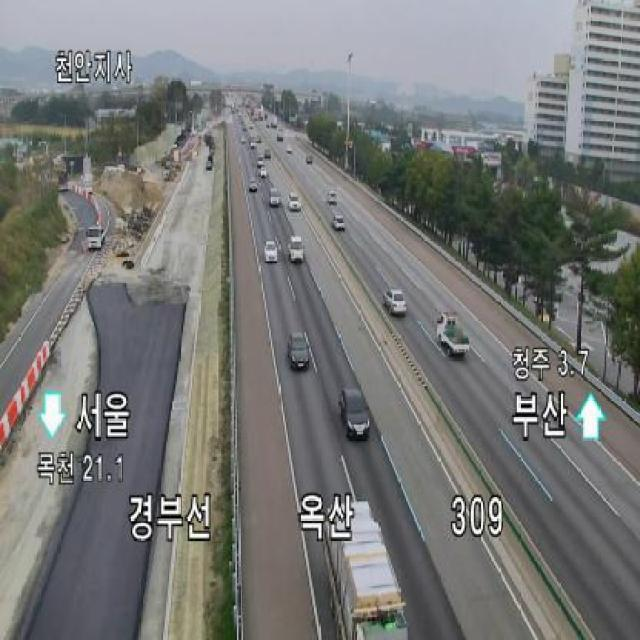Car: (338, 388, 372, 442), (288, 332, 310, 372), (383, 288, 409, 320), (263, 240, 279, 263), (288, 192, 302, 212), (268, 186, 280, 208), (332, 214, 346, 232), (248, 177, 258, 194), (328, 189, 337, 206), (258, 168, 268, 180), (306, 154, 314, 164), (286, 144, 292, 156), (264, 150, 270, 158), (249, 121, 254, 128), (257, 135, 261, 143), (242, 135, 246, 143), (243, 124, 246, 130)
Truck: (301, 481, 418, 640), (437, 310, 472, 364), (80, 215, 118, 257), (288, 233, 304, 264), (277, 128, 285, 142), (271, 116, 278, 130), (257, 156, 265, 167), (250, 137, 256, 149), (259, 110, 263, 118), (232, 105, 235, 114), (251, 106, 254, 115)
